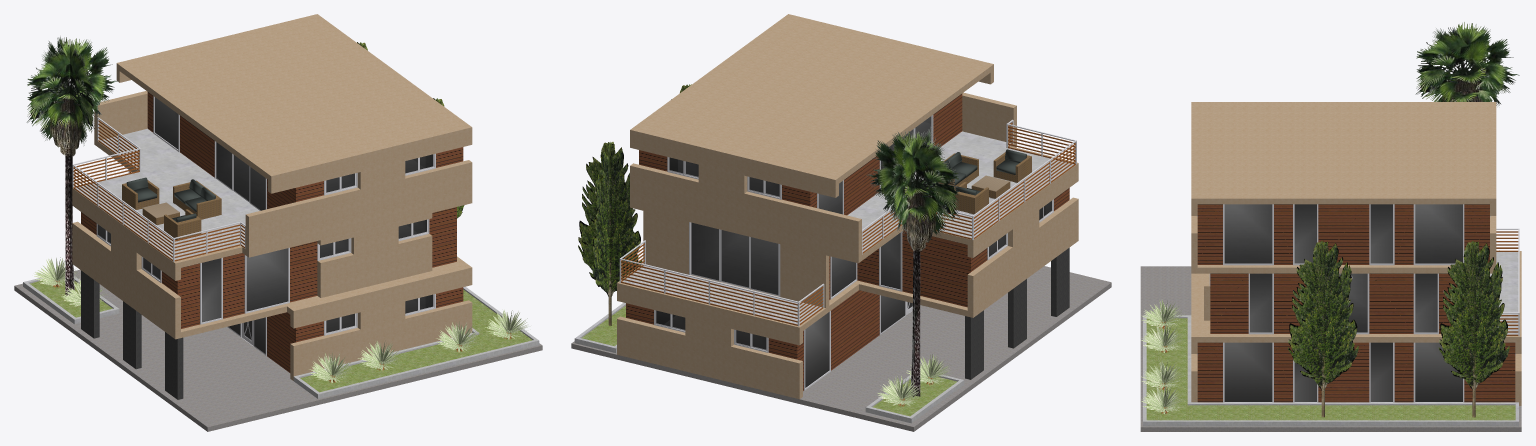
The picture shows the model from 3 angles, left to right: view 1: azimuth 30°, elevation 25°; view 2: azimuth 150°, elevation 25°; view 3: azimuth 270°, elevation 25°; orthographic projection. The views are drawn at different scales.
Visible parts, largest first — view 1: Material2 (×29), Material3; view 2: Material2 (×30), Material3 (×2); view 3: Material2 (×32), Material3.
Boxes of the visible parts, x1,y1,x2,y2 form: Material2 (×29): (14,14,542,431); Material3: (75,128,259,259); Material2 (×30): (571,14,1111,431); Material3 (×2): (622,131,1073,324); Material2 (×32): (1140,22,1521,431); Material3: (1490,252,1518,334).
Bounding box in the file's own units: 16.89 × 11.65 × 15.35.
24 materials, 15 textured.
